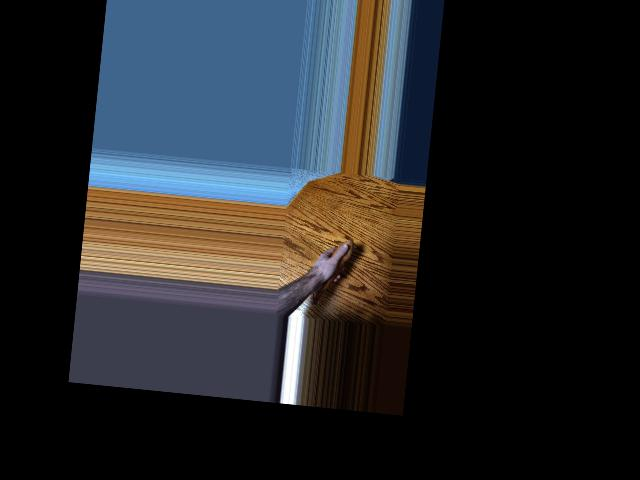sweet_potato: (308, 239, 352, 309)
